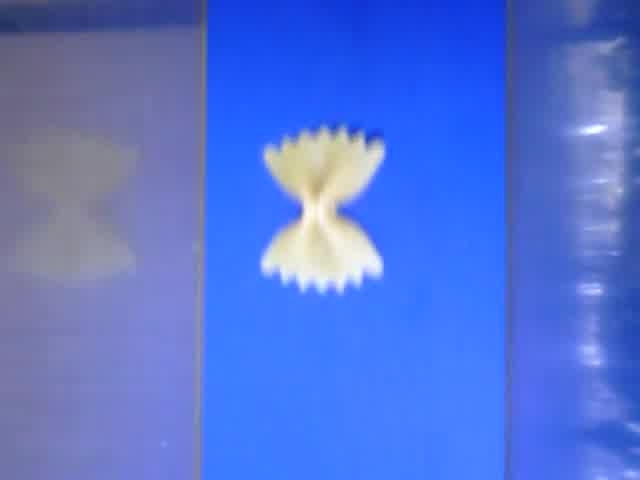farfalle: (262, 124, 386, 296)
